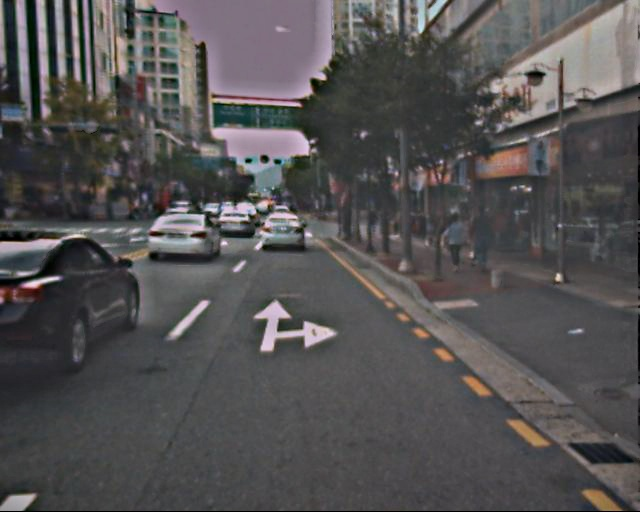person: (467, 204, 494, 269), (441, 213, 466, 273)
